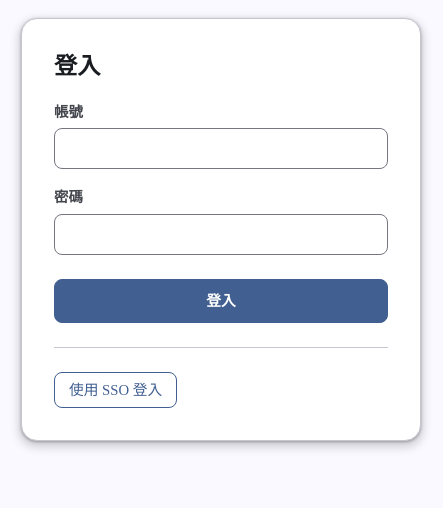
Test: LoginForm › shows a disabled-account message
This screenshot has width=443, height=508.
Step 1. Type "disabled" into the field labelled "帳號" → (221, 149), box [54,128,388,169]
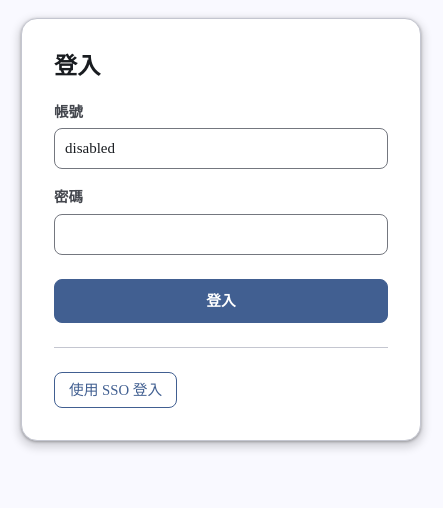
Step 2. Type "irrelevant" into the password field labelled "密碼" → (221, 234), box [54,214,388,255]
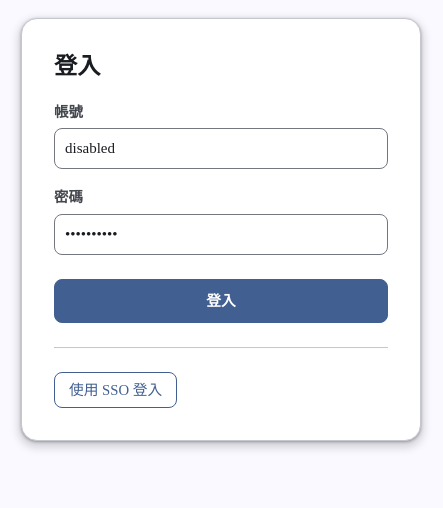
Step 3. Click the button "登入" → (221, 301), box [54,279,388,323]
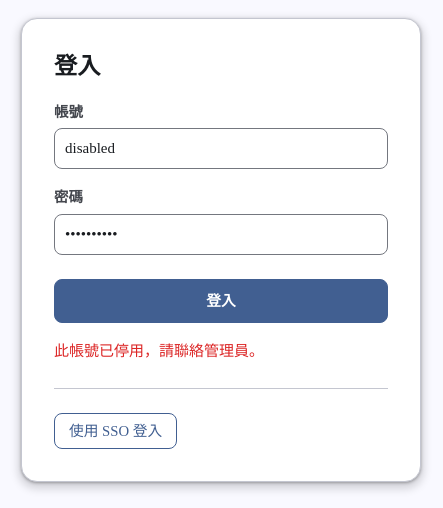
Now the text "此帳號已停用，請聯絡管理員。" is shown, box [54,343,264,359]
